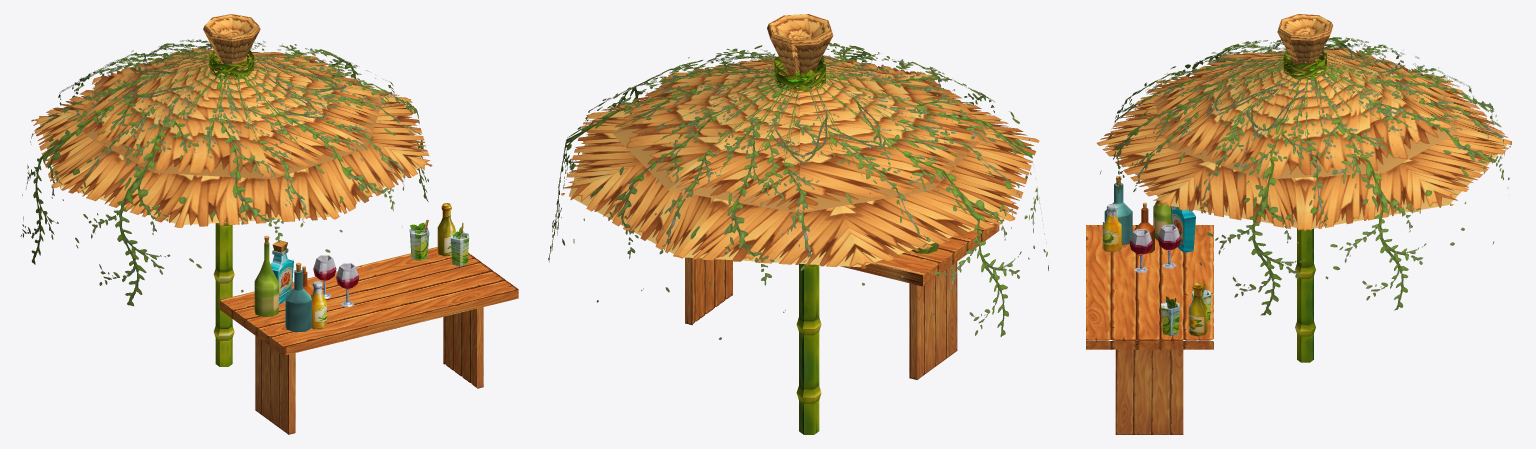
File: bar.fbx
The picture shows the model from 3 angles, left to right: view 1: azimuth 30°, elevation 25°; view 2: azimuth 150°, elevation 25°; view 3: azimuth 270°, elevation 25°; orthographic projection. The views are drawn at different scales.
Visible parts, largest first — view 1: Circle.006, Circle, Cube, лианы на зонтик.002, лианы на зонтик.003, Cube.001, лианы на зонтик, лианы на зонтик.001, Circle.009, Circle.001, Circle.004, Circle.027 (+10 smaller); view 2: Circle.006, Circle, лианы на зонтик.003, лианы на зонтик.002, Cube.001, лианы на зонтик.001, лианы на зонтик, Circle.001, Circle.009, Cube, Circle.004, Circle.003 (+1 smaller); view 3: Circle.006, Circle, Cube, лианы на зонтик.002, лианы на зонтик.003, Cube.001, лианы на зонтик.001, лианы на зонтик, Circle.001, Circle.009, Circle.004, Circle.003 (+9 smaller).
Part boxes in pixels (x1,y1,x2,y2): Circle.006: (80, 48, 383, 176); Circle: (31, 67, 432, 227); Cube: (219, 247, 518, 355); лианы на зонтик.002: (58, 41, 424, 305); лианы на зонтик.003: (20, 39, 428, 291); Cube.001: (255, 307, 483, 434); лианы на зонтик: (58, 42, 424, 306); лианы на зонтик.001: (21, 40, 428, 292); Circle.009: (213, 222, 234, 366); Circle.001: (81, 60, 381, 179); Circle.004: (203, 14, 260, 70); Circle.027: (254, 235, 278, 316); Circle.006: (614, 55, 987, 211); Circle: (561, 93, 1039, 268); лианы на зонтик.003: (573, 48, 1034, 336); лианы на зонтик.002: (548, 42, 1048, 339); Cube.001: (685, 257, 957, 379); лианы на зонтик.001: (573, 49, 1034, 336); лианы на зонтик: (548, 43, 1048, 339); Circle.001: (613, 72, 986, 213); Circle.009: (796, 264, 821, 434); Cube: (840, 223, 999, 286); Circle.004: (767, 14, 833, 78); Circle.003: (569, 118, 1026, 267); Circle.006: (1152, 47, 1458, 176); Circle: (1096, 76, 1511, 231); Cube: (1086, 225, 1213, 349); лианы на зонтик.002: (1100, 39, 1509, 309); лианы на зонтик.003: (1114, 37, 1510, 314); Cube.001: (1115, 339, 1183, 434); лианы на зонтик.001: (1114, 38, 1510, 315); лианы на зонтик: (1100, 40, 1508, 310); Circle.001: (1153, 75, 1457, 179); Circle.009: (1295, 228, 1315, 362); Circle.004: (1277, 14, 1332, 70); Circle.003: (1107, 85, 1506, 228).
Bounding box in the file's own units: 317 × 273 × 319.
